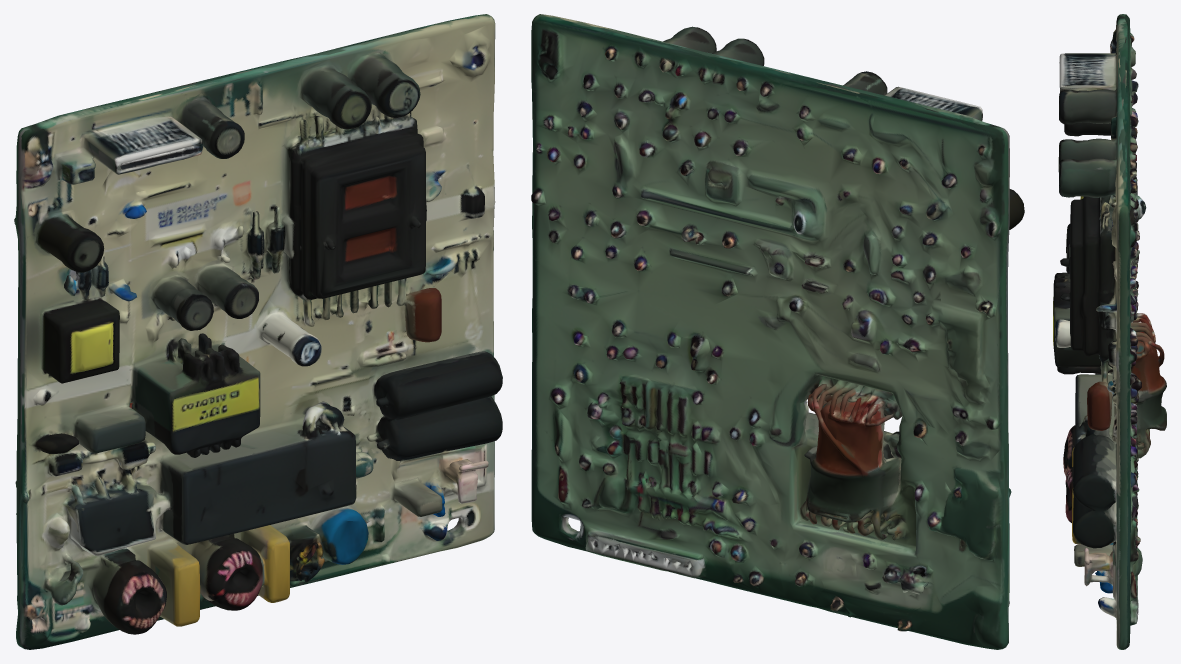
Rendered from powerboard.glb.
3 views of the same model, side by side, from view 1: azimuth 30°, elevation 25°; view 2: azimuth 150°, elevation 25°; view 3: azimuth 270°, elevation 25° (orthographic). The views are drawn at different scales.
Visible parts, largest first — view 1: texture_v100.001; view 2: texture_v100.001; view 3: texture_v100.001.
Boxes of the visible parts, x1,y1,x2,y2 form: texture_v100.001: (14, 14, 502, 649); texture_v100.001: (531, 14, 1024, 649); texture_v100.001: (1053, 14, 1166, 649).
Bounding box in the file's own units: 0.8349 × 0.8815 × 0.2029.
Materials: 1 (1 with a texture image).
